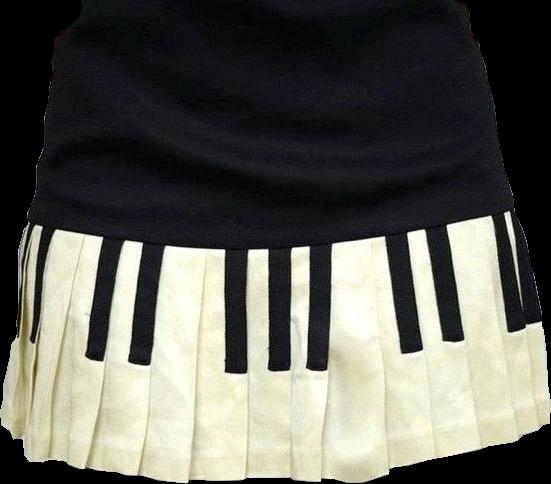Hemline: (0, 420, 550, 483)
Waistline: (27, 201, 515, 253), (78, 0, 466, 5)
